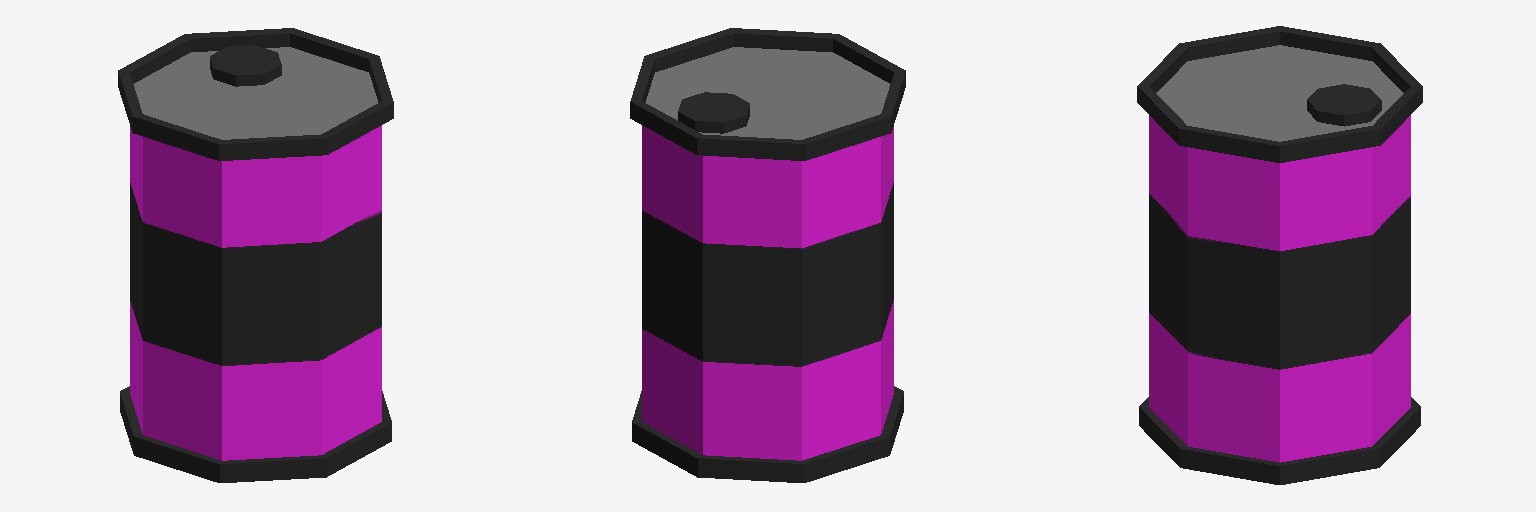
The picture shows the model from 3 angles: view 1: azimuth 30°, elevation 25°; view 2: azimuth 150°, elevation 25°; view 3: azimuth 270°, elevation 25°; orthographic projection.
Visible parts, largest first — view 1: Cylinder; view 2: Cylinder; view 3: Cylinder.
Boxes of the visible parts, x1=… form: Cylinder: x1=118, y1=28, x2=393, y2=482; Cylinder: x1=630, y1=28, x2=905, y2=482; Cylinder: x1=1137, y1=26, x2=1422, y2=484.
Size of the model in its own units: 1.09 by 1.43 by 1.09.
1 materials, 1 textured.